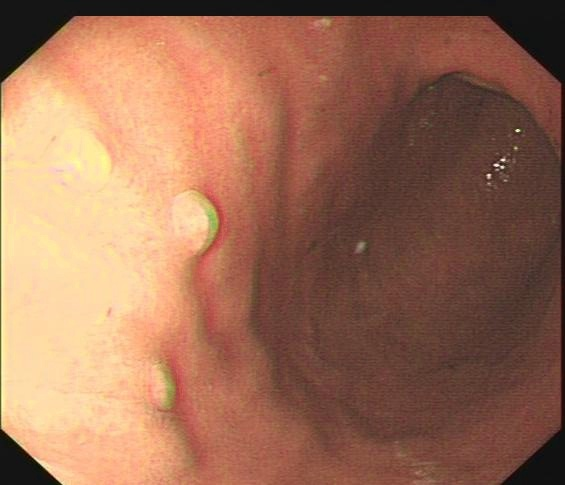Polyp: (154, 183, 228, 264), (47, 124, 120, 198)
